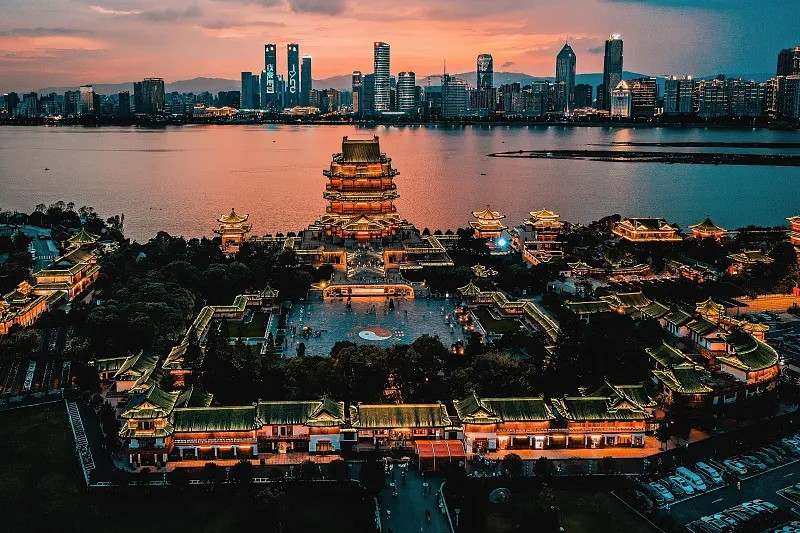Teng: (308, 136, 415, 247)
